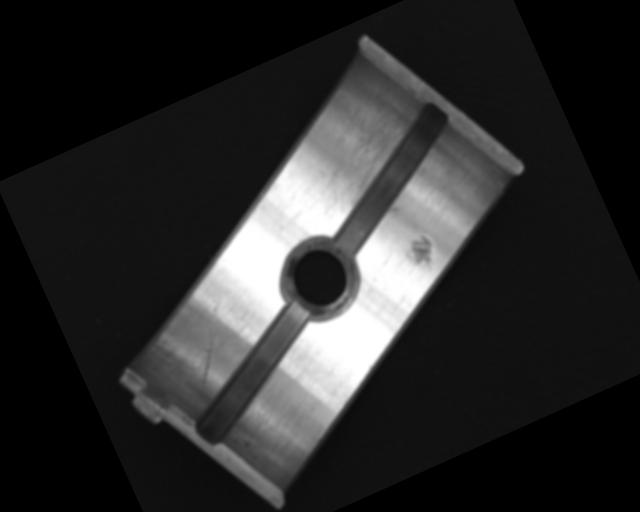bruise: (403, 232, 442, 277)
gap: (297, 98, 483, 261), (166, 298, 341, 449)
hole: (272, 228, 370, 330)
nick: (171, 299, 248, 388)
scratch: (286, 81, 433, 224)
